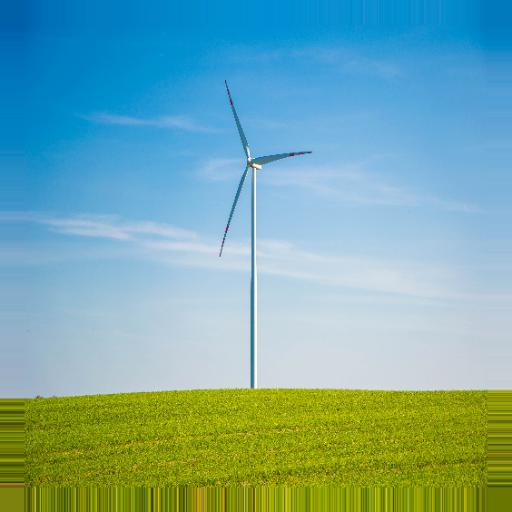wind turbine: (218, 77, 314, 396)
